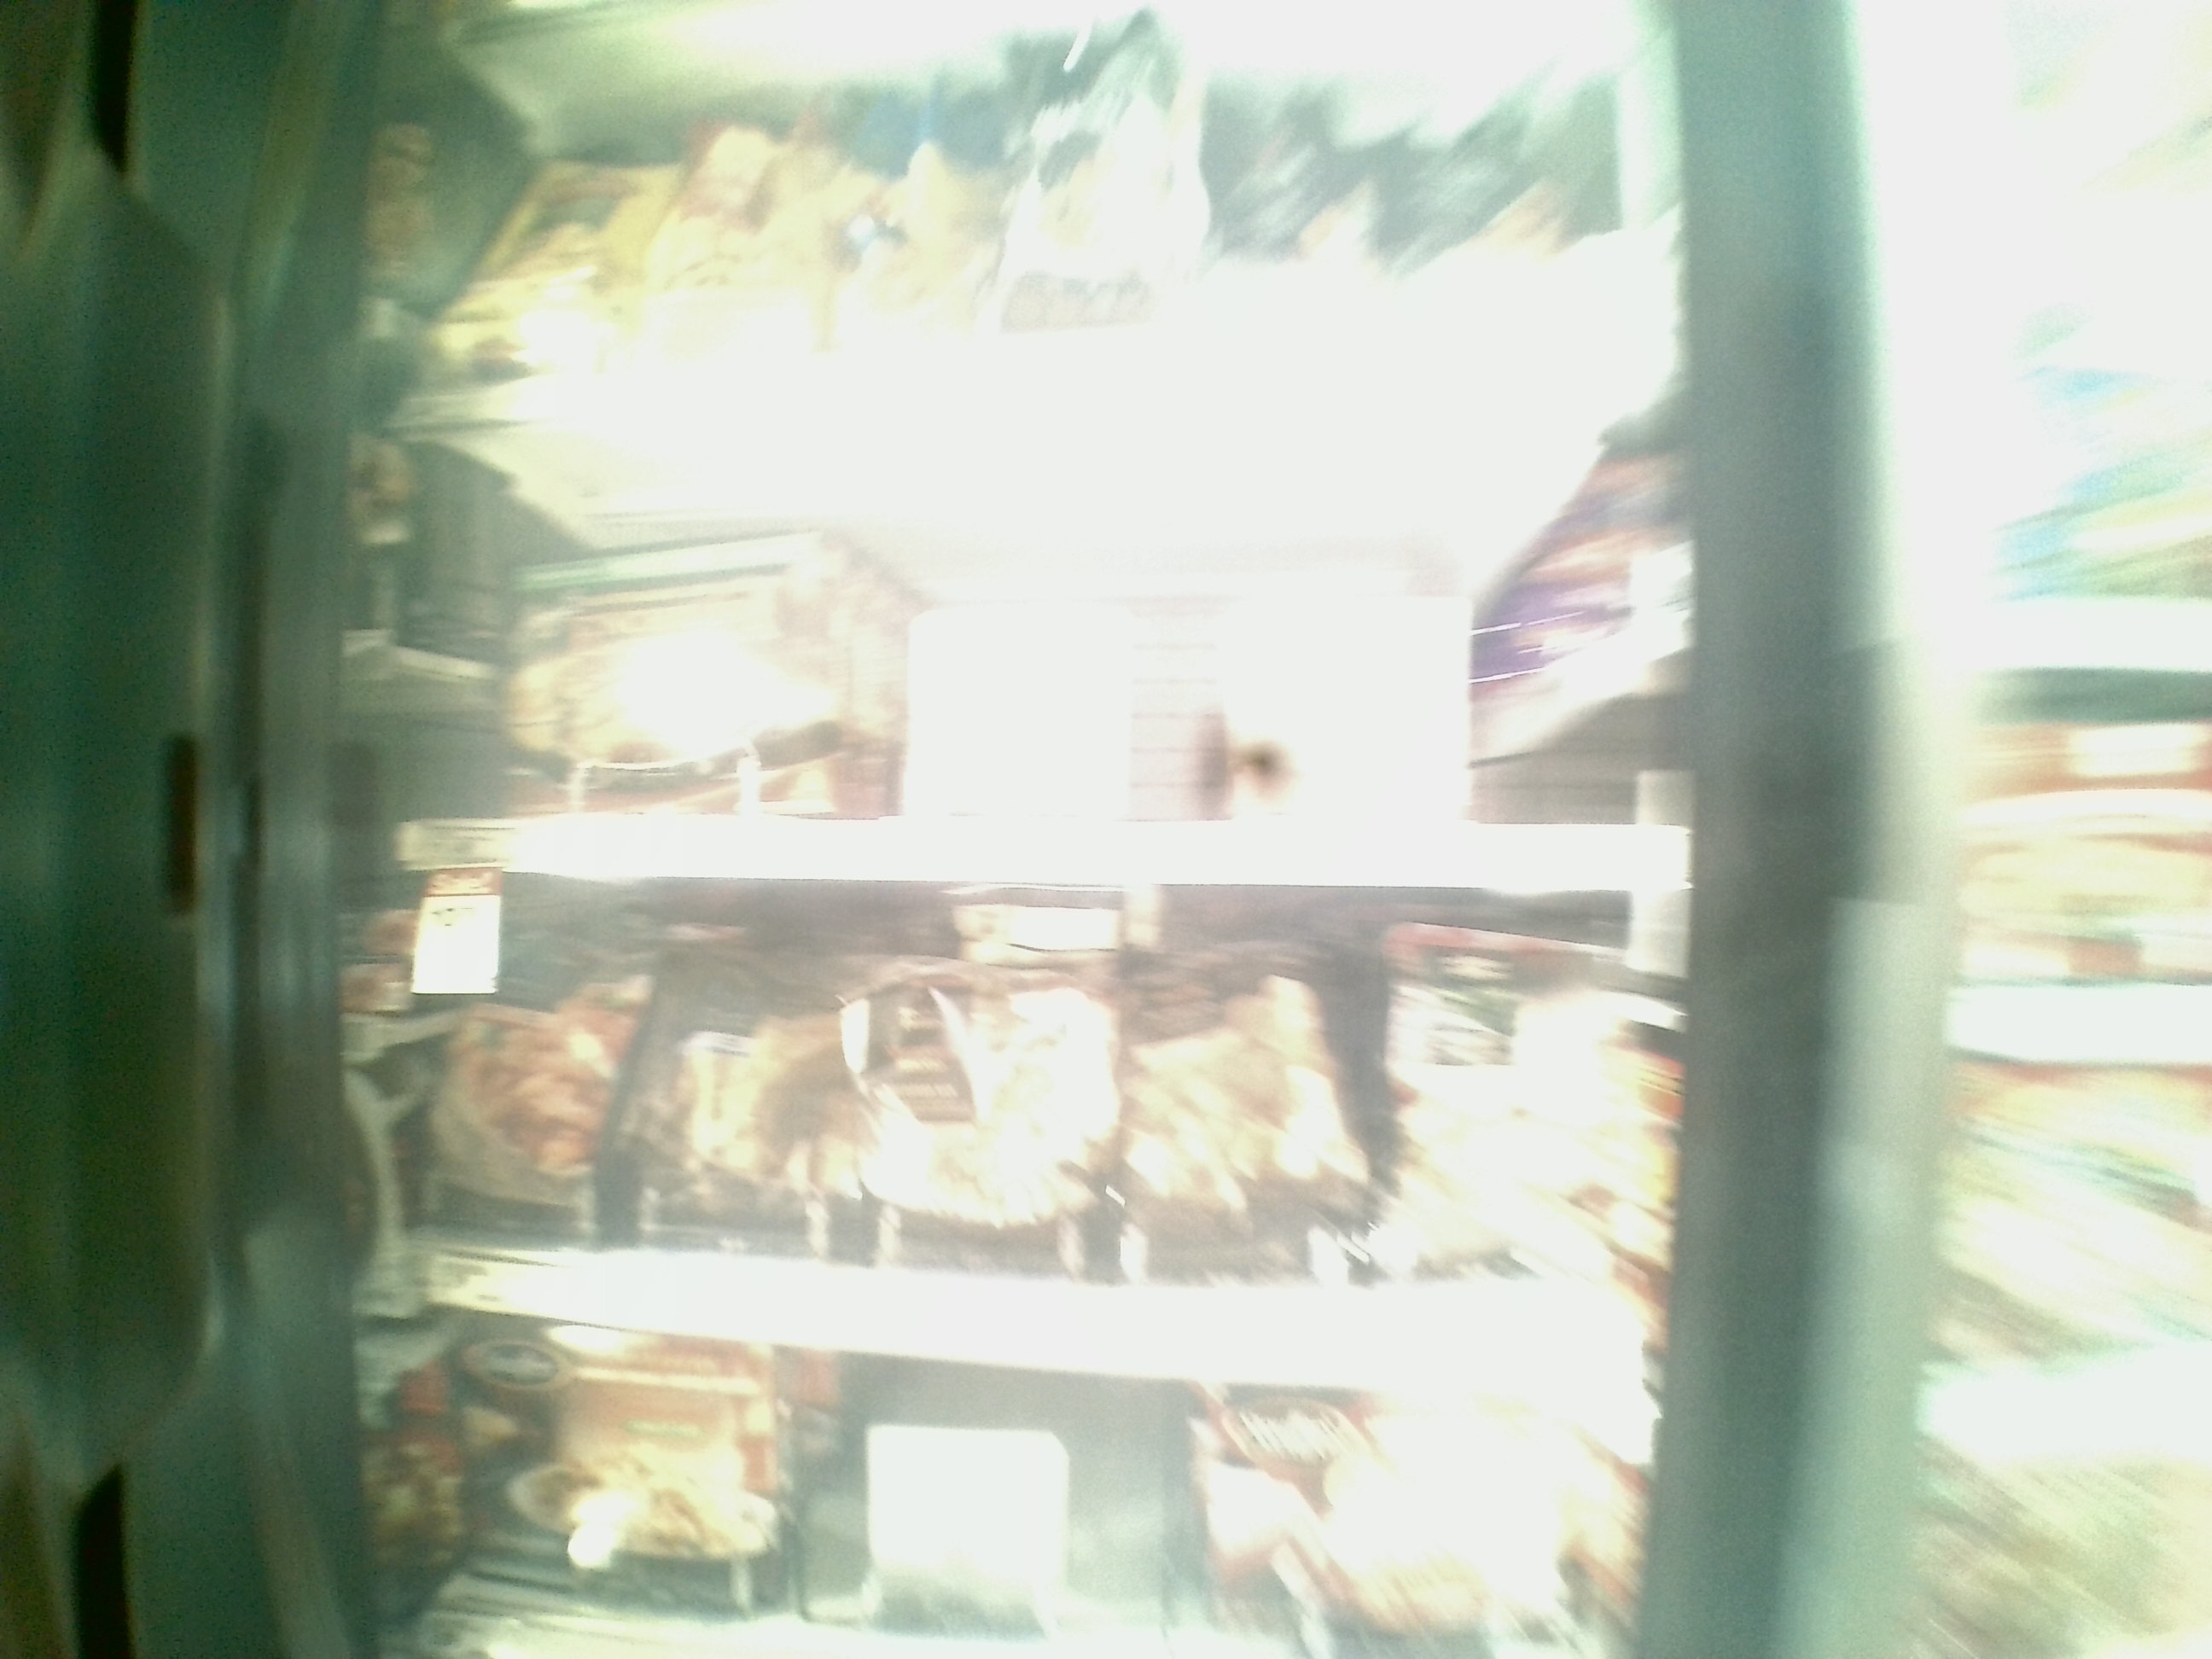shelf: (388, 878, 1656, 1384)
